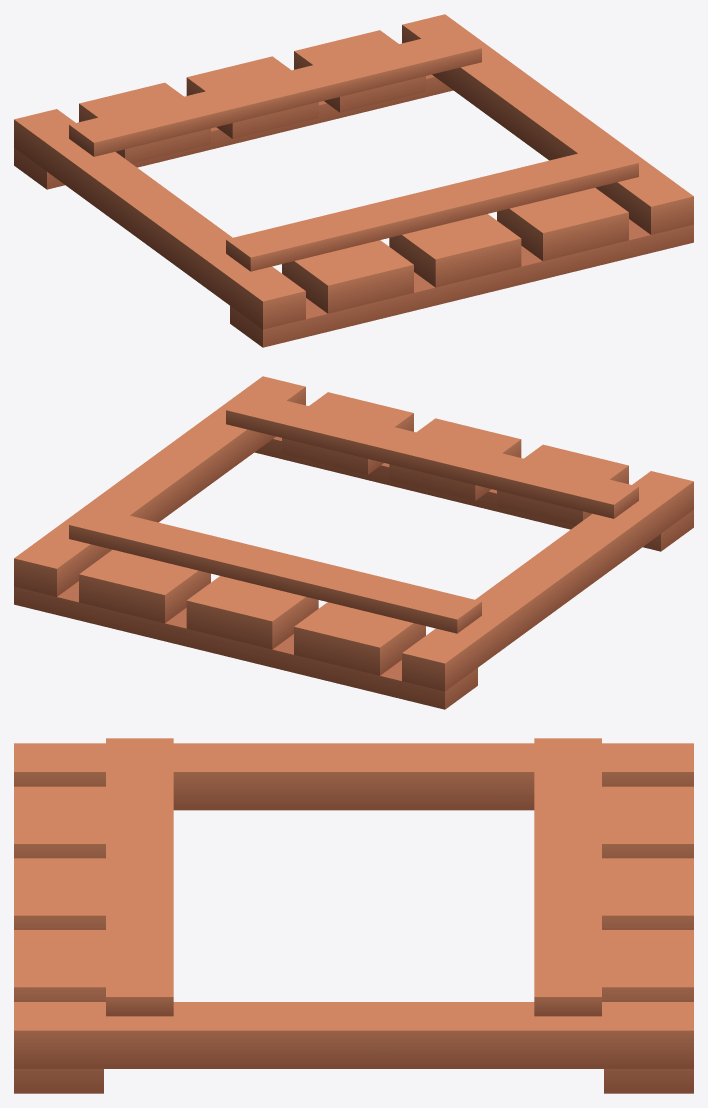
The model's file is floor-hole.glb.
3 renders of one model, top to bottom at view 1: azimuth 30°, elevation 25°; view 2: azimuth 150°, elevation 25°; view 3: azimuth 270°, elevation 25°, orthographic. The views are drawn at different scales.
Visible parts, largest first — view 1: floor-hole; view 2: floor-hole; view 3: floor-hole.
Boxes of the visible parts, bbox=[...] form: floor-hole: bbox=[14, 14, 693, 347]; floor-hole: bbox=[14, 376, 693, 709]; floor-hole: bbox=[14, 738, 693, 1093].
Bounding box in the file's own units: 0.5 × 0.0668 × 0.5.
Materials: 1 (1 with a texture image).
